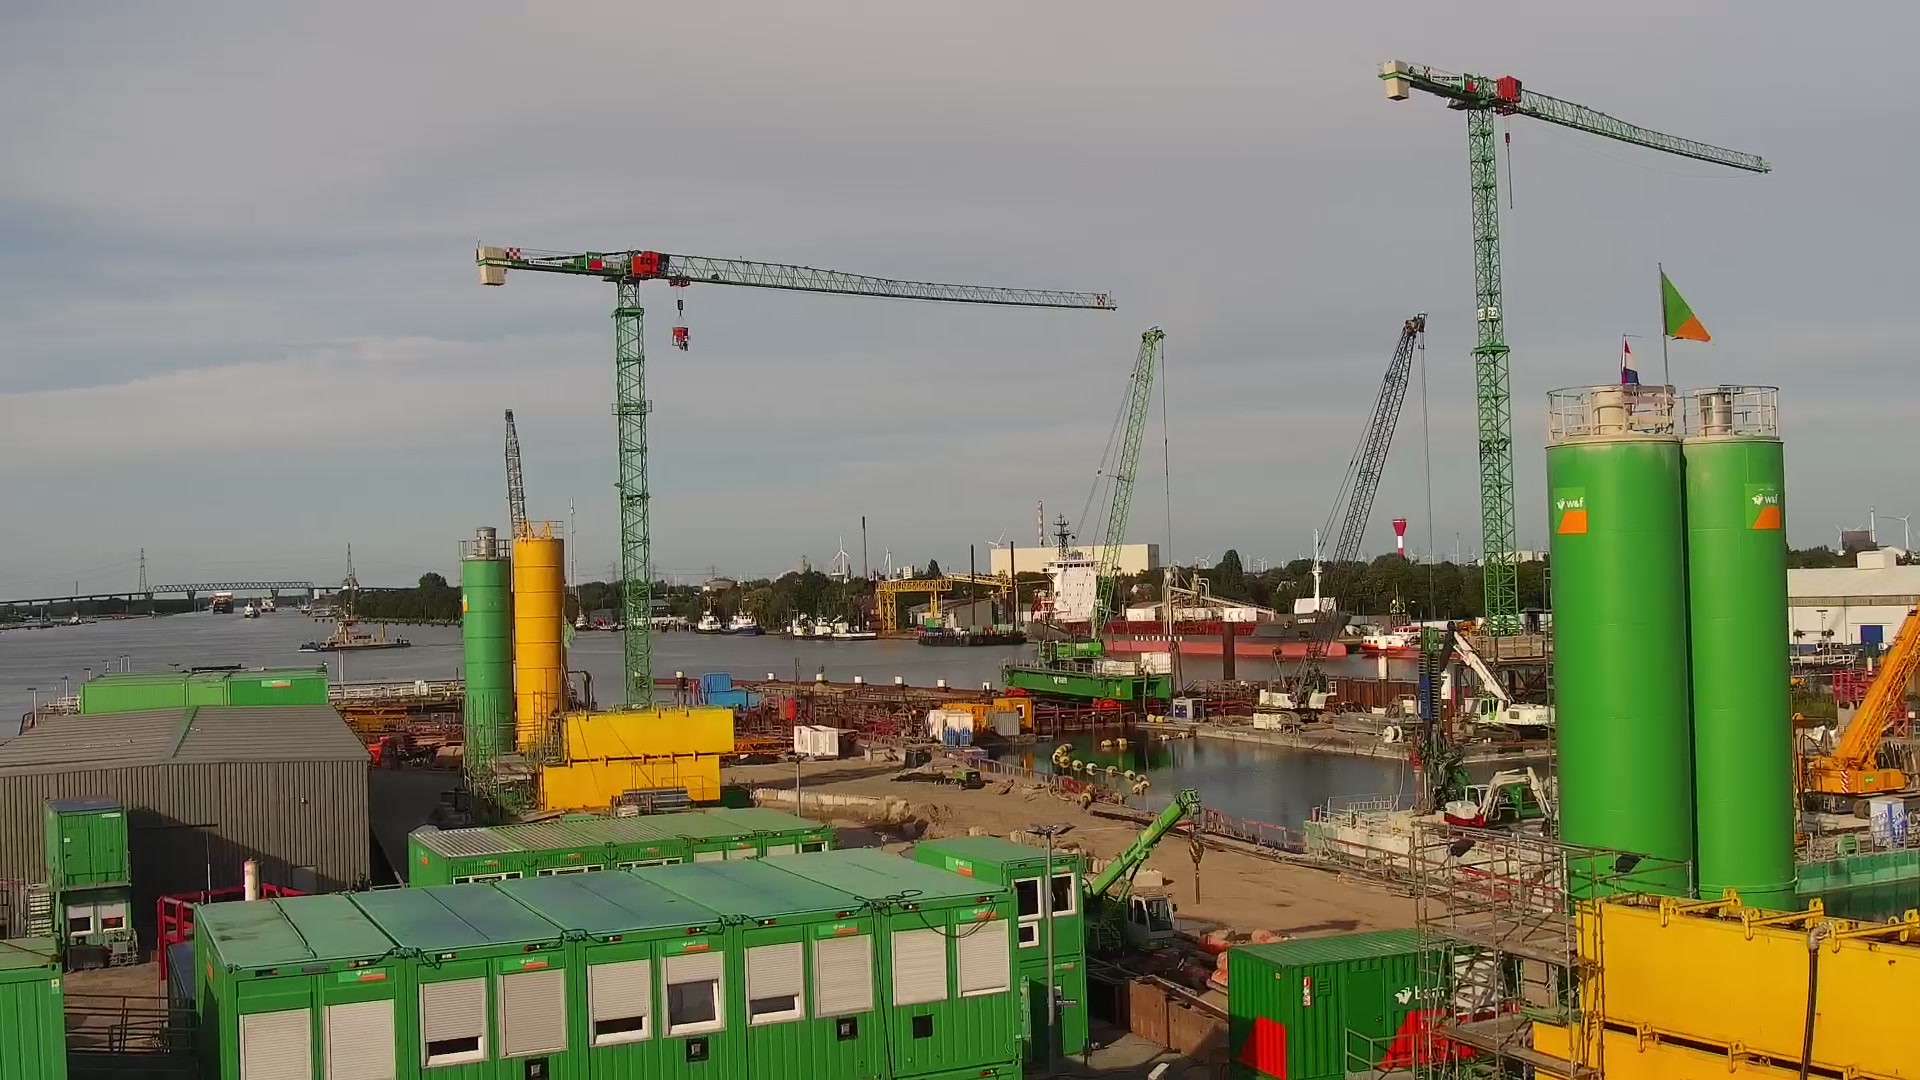land: (1083, 787, 1203, 957), (1437, 620, 1556, 741), (1443, 764, 1560, 835), (1280, 644, 1338, 717)
sea: (1027, 512, 1352, 657), (1360, 579, 1462, 659), (916, 592, 1029, 647), (298, 617, 411, 653), (786, 608, 833, 640), (832, 613, 880, 640), (729, 609, 765, 637), (696, 609, 725, 633), (211, 591, 233, 615), (243, 597, 260, 618), (258, 593, 276, 612), (574, 613, 589, 630)
